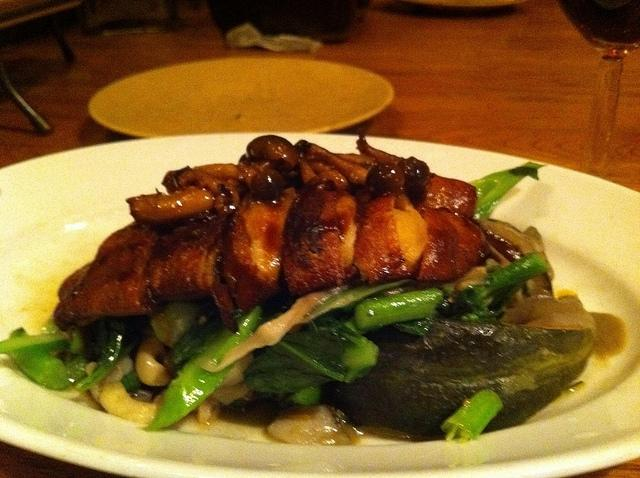green bean: (462, 253, 549, 306), (354, 288, 445, 330), (440, 388, 504, 444)
